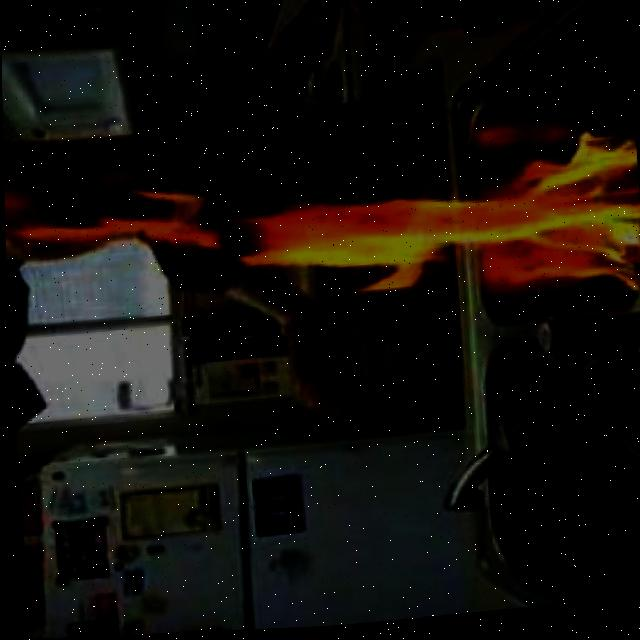Fire: (170, 135, 640, 328), (3, 166, 167, 271)
